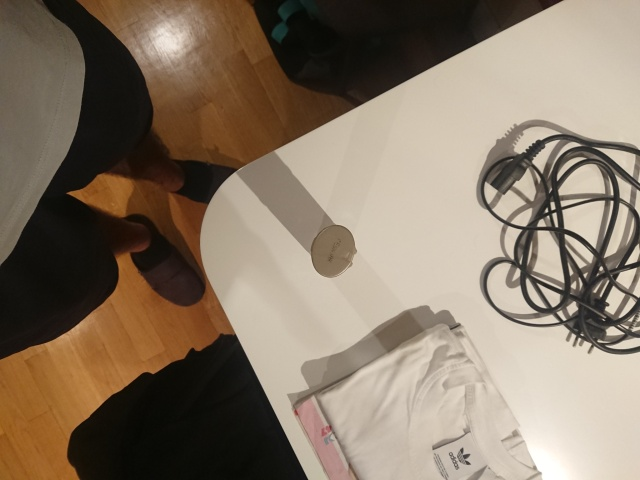Kotanyi Garlic Granules 70g: (309, 223, 359, 280)
